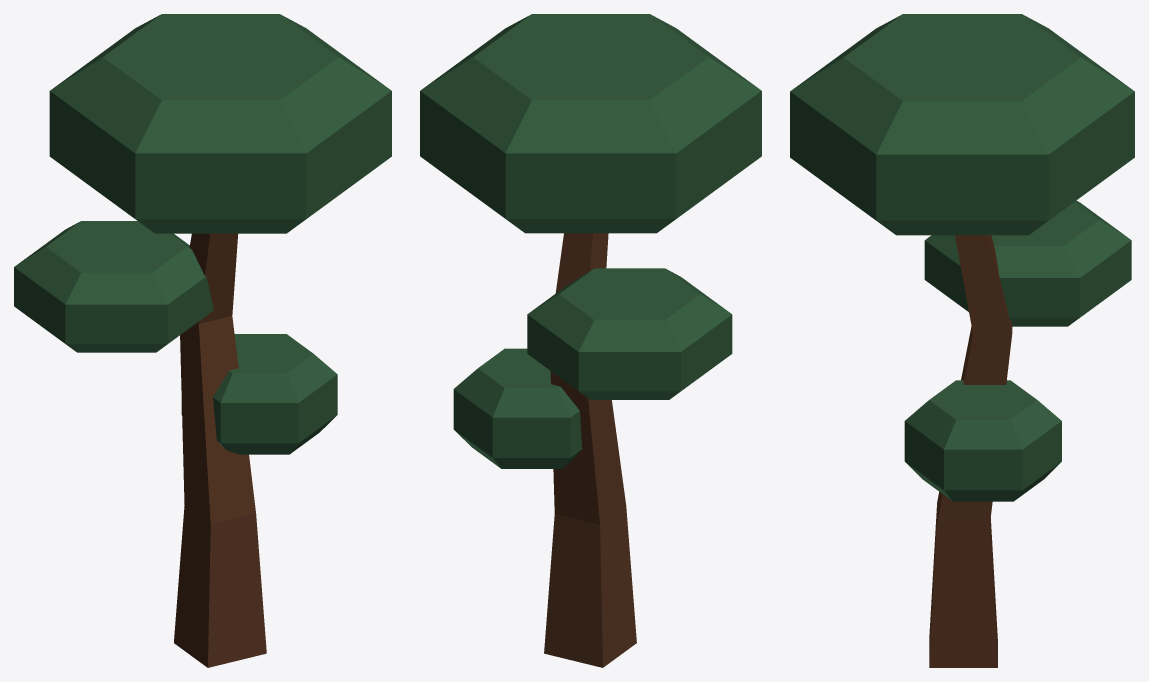
Rendered from tree_plateau.glb.
3 views of the same model, side by side, from view 1: azimuth 30°, elevation 25°; view 2: azimuth 150°, elevation 25°; view 3: azimuth 270°, elevation 25° (orthographic).
Visible parts, largest first — view 1: tree_plateau; view 2: tree_plateau; view 3: tree_plateau.
Part boxes in pixels (left/top/right/bottom): tree_plateau: left=14, top=14, right=391, bottom=667; tree_plateau: left=420, top=14, right=761, bottom=667; tree_plateau: left=790, top=14, right=1134, bottom=667.
Bounding box in the file's own units: 0.6117 × 1.25 × 0.6549.
